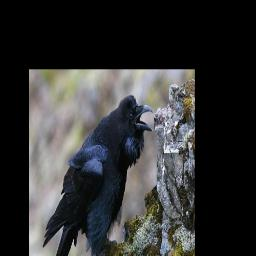Crow: (43, 94, 154, 256)
